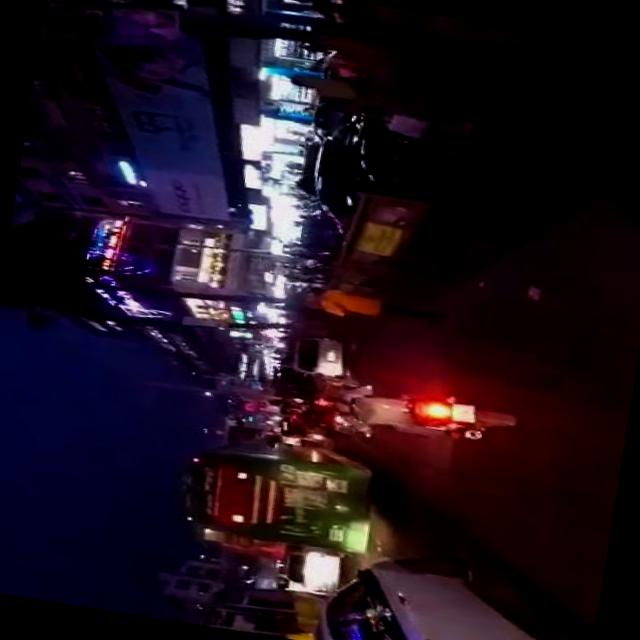bus: (172, 422, 380, 554), (197, 572, 327, 640), (186, 523, 290, 560)
car: (310, 540, 600, 640), (304, 104, 418, 240), (276, 539, 346, 595), (286, 326, 352, 378), (308, 100, 349, 142), (317, 46, 359, 82)
motorcycle: (395, 384, 516, 446), (273, 412, 328, 442), (328, 408, 373, 432)
